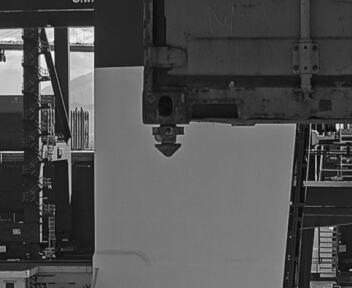twist_lock_2: (236, 122, 268, 149)
